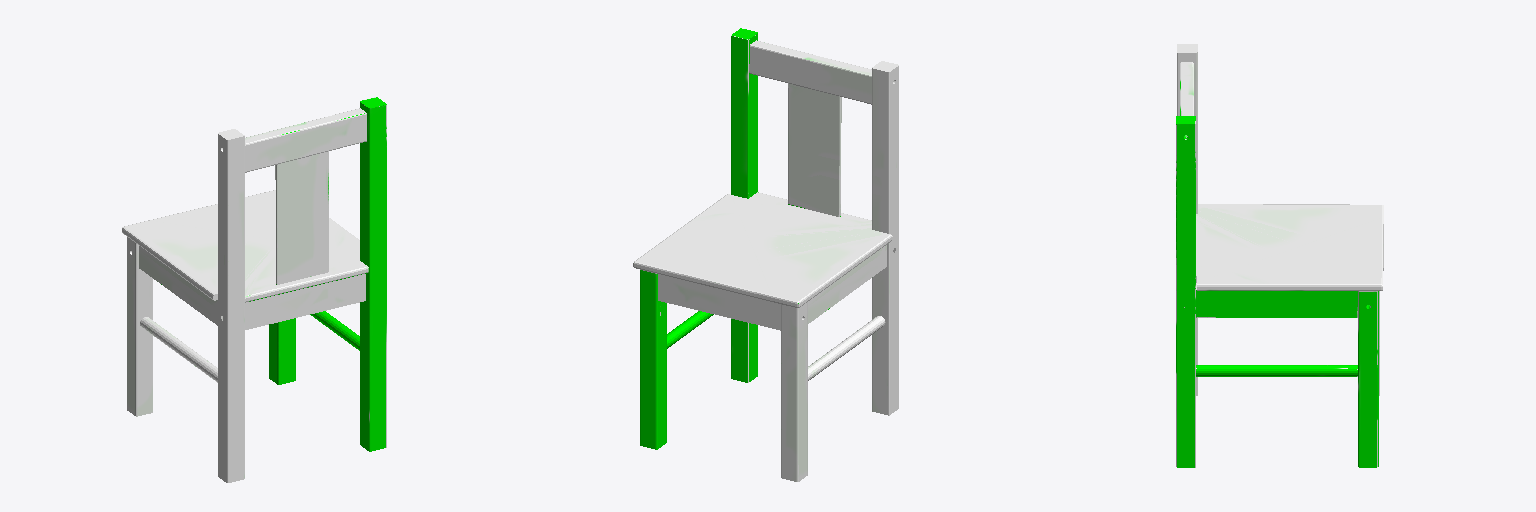
3 renders of one model, left to right at view 1: azimuth 30°, elevation 25°; view 2: azimuth 150°, elevation 25°; view 3: azimuth 270°, elevation 25°, orthographic.
Parts seen in each view (by area): view 1: left_bakben; view 2: left_bakben; view 3: left_bakben.
Part boxes in pixels (x1,y1,x2,y2): left_bakben: (122,97,386,482); left_bakben: (633,28,898,481); left_bakben: (1176,44,1383,467).
Size of the model in its own units: 10.68 by 21.09 by 11.52.
Materials: 1 (1 with a texture image).